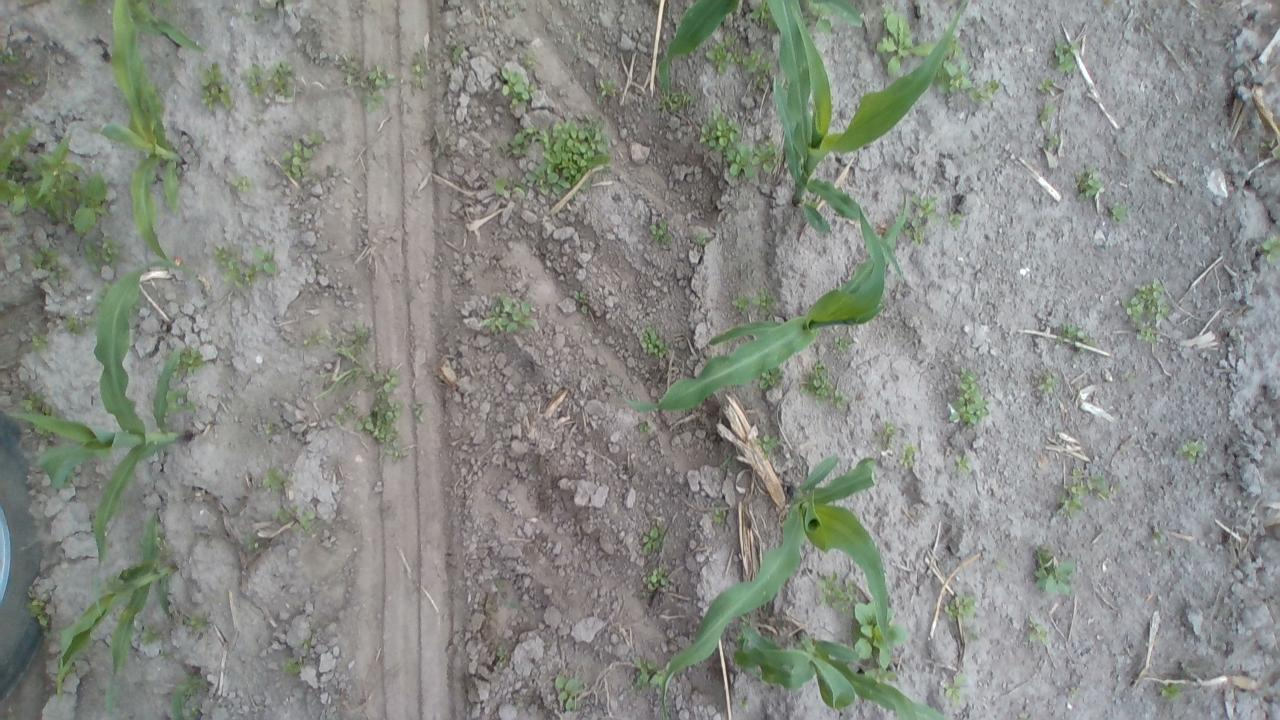Maize: (629, 178, 904, 410), (660, 448, 892, 720), (7, 258, 196, 568), (770, 0, 970, 235), (59, 508, 178, 715), (101, 0, 185, 265), (730, 618, 946, 720), (658, 0, 745, 101), (136, 1, 202, 57), (812, 0, 864, 30), (174, 667, 202, 720)
Weeds: (0, 124, 110, 236), (532, 109, 610, 196), (360, 365, 408, 462), (1053, 454, 1106, 524), (319, 318, 367, 393), (872, 11, 928, 72), (944, 367, 996, 432), (854, 602, 904, 669), (214, 238, 280, 285), (474, 288, 538, 334), (1125, 280, 1172, 342), (800, 358, 850, 408), (1032, 546, 1075, 601), (278, 623, 322, 676), (241, 62, 296, 103), (276, 128, 322, 176), (193, 59, 236, 106), (903, 187, 937, 244), (25, 243, 70, 282), (699, 108, 742, 145), (630, 651, 664, 697), (549, 674, 589, 710), (83, 236, 129, 267), (358, 66, 390, 110), (499, 66, 534, 105), (640, 522, 672, 564), (272, 502, 320, 530), (948, 34, 972, 90), (937, 668, 972, 706), (822, 576, 852, 614), (188, 608, 225, 638), (22, 597, 53, 631), (637, 326, 672, 356), (1036, 72, 1056, 122), (1030, 369, 1062, 400), (701, 46, 732, 78), (945, 590, 980, 618), (740, 42, 770, 74), (722, 145, 752, 176), (1054, 40, 1083, 72), (1184, 434, 1212, 466), (503, 130, 528, 165), (328, 396, 358, 425), (646, 213, 673, 245), (644, 565, 672, 595), (1078, 172, 1108, 199), (666, 92, 698, 117), (268, 459, 290, 494), (1256, 232, 1280, 264), (164, 385, 191, 413), (18, 389, 52, 411), (1023, 618, 1054, 642), (138, 620, 169, 644), (750, 2, 774, 33), (1156, 676, 1182, 704), (60, 311, 89, 335), (754, 136, 774, 170), (178, 345, 203, 372), (228, 176, 258, 197), (758, 369, 787, 390), (409, 48, 430, 76), (1059, 323, 1088, 343), (976, 82, 1006, 99), (688, 229, 709, 253), (834, 331, 860, 350), (1258, 137, 1280, 159), (878, 421, 898, 445), (728, 290, 748, 314), (756, 288, 774, 314), (1107, 200, 1130, 220), (26, 333, 54, 349), (709, 510, 729, 532), (598, 78, 618, 98), (898, 445, 917, 465), (0, 47, 22, 64), (494, 175, 512, 195), (572, 288, 592, 306), (22, 72, 44, 88), (1044, 132, 1060, 154), (952, 453, 972, 470), (950, 207, 965, 228), (1152, 522, 1164, 545), (412, 401, 426, 419), (157, 0, 176, 13), (262, 422, 282, 433), (637, 418, 650, 434), (1102, 0, 1116, 10)
